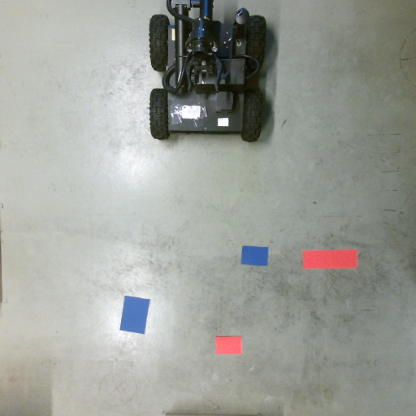Blue: (116, 296, 150, 335), (238, 244, 271, 267)
Jaguar: (147, 0, 265, 147)
Red: (301, 250, 359, 270), (211, 335, 244, 356)
